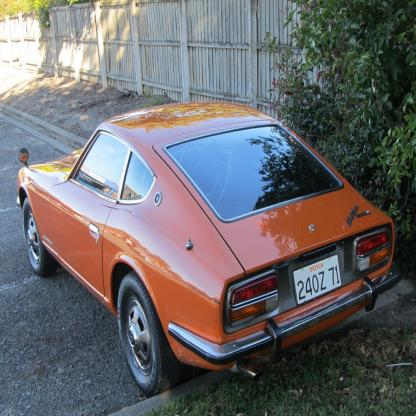Car: (17, 102, 405, 399)
